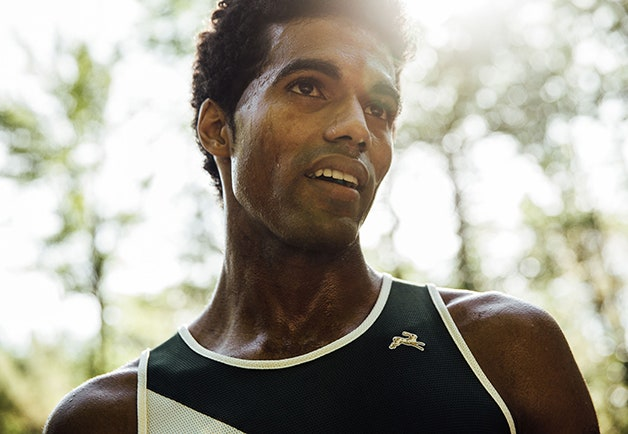NoMask: (259, 54, 397, 243)
